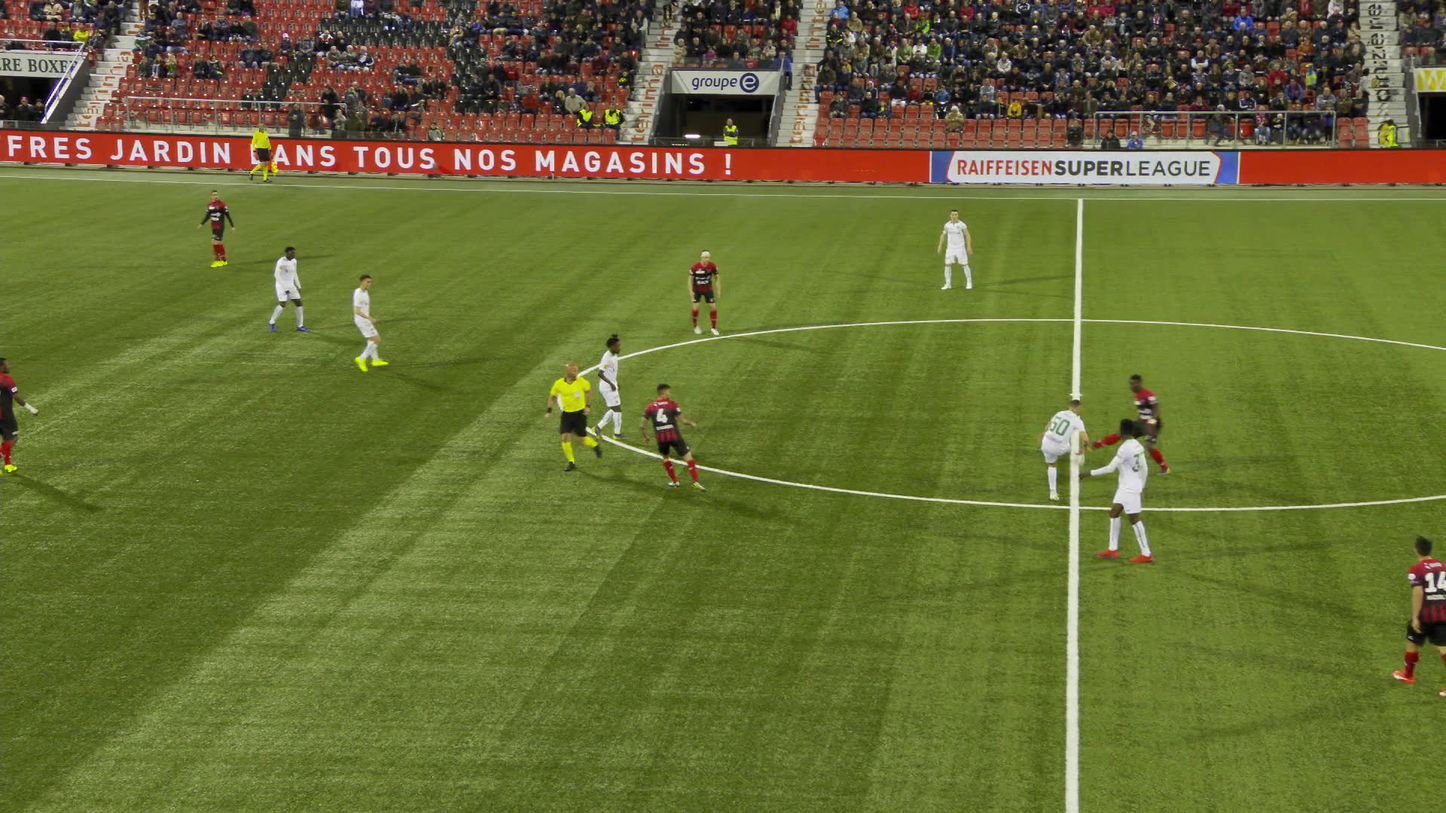ball: (1069, 460, 1081, 472)
player: (1081, 418, 1154, 564), (1393, 536, 1445, 698), (1091, 373, 1169, 476), (641, 382, 707, 494), (1033, 398, 1090, 502), (0, 357, 38, 471), (595, 332, 630, 440), (269, 246, 311, 331), (687, 248, 721, 336), (936, 209, 972, 289), (351, 274, 380, 372), (200, 190, 234, 266)
referee: (545, 361, 602, 470), (246, 122, 273, 182)
